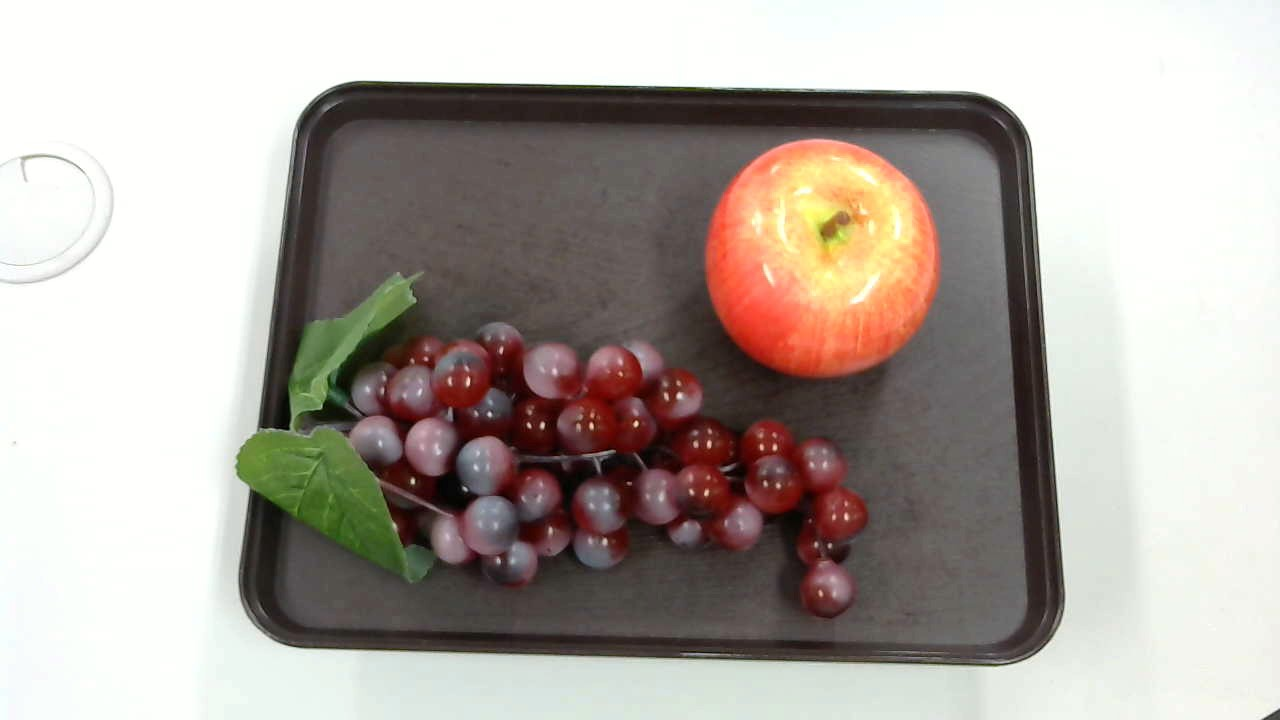grape: (242, 263, 876, 629)
red apple: (703, 141, 940, 378)
